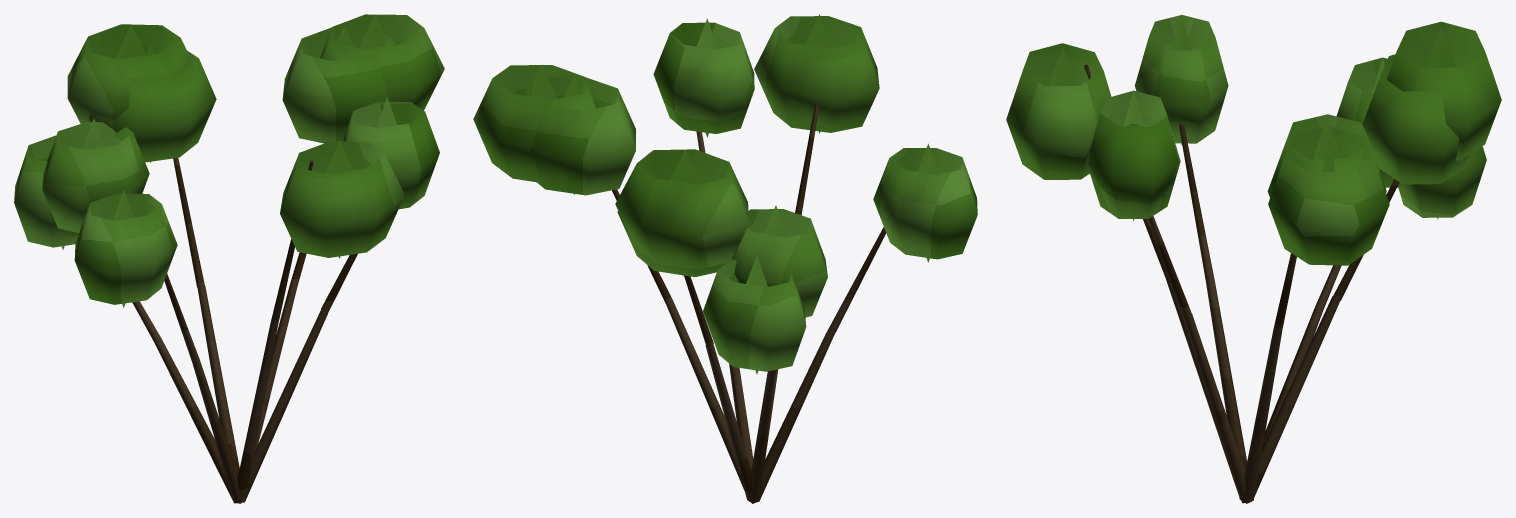
Rendered from filbert_small01-lod1.glb.
3 renders of one model, left to right at view 1: azimuth 30°, elevation 25°; view 2: azimuth 150°, elevation 25°; view 3: azimuth 270°, elevation 25°, orthographic. The views are drawn at different scales.
Parts seen in each view (by area): view 1: TZ_filbert_shrub_Batch_00_LOD1, TZ_filbert_shrub_Batch_01_LOD1; view 2: TZ_filbert_shrub_Batch_00_LOD1, TZ_filbert_shrub_Batch_01_LOD1; view 3: TZ_filbert_shrub_Batch_00_LOD1, TZ_filbert_shrub_Batch_01_LOD1.
Boxes of the visible parts, x1,y1,x2,y2 form: TZ_filbert_shrub_Batch_00_LOD1: (14,14,444,307); TZ_filbert_shrub_Batch_01_LOD1: (132,158,357,503); TZ_filbert_shrub_Batch_00_LOD1: (473,14,977,374); TZ_filbert_shrub_Batch_01_LOD1: (612,103,885,503); TZ_filbert_shrub_Batch_00_LOD1: (1006,14,1501,265); TZ_filbert_shrub_Batch_01_LOD1: (1084,64,1399,503).
Size of the model in its own units: 1.11 by 1.05 by 1.02.
Materials: 2 (2 with a texture image).
